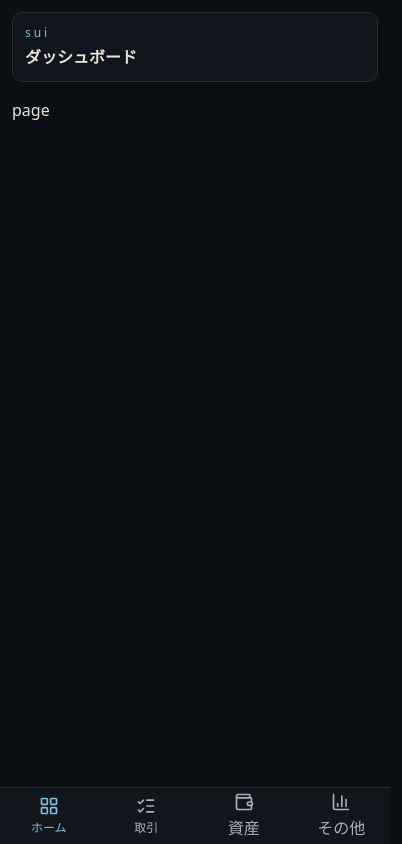
AppLayout navigation › omits audit history from desktop and mobile navigation
Click the button "その他" at (341, 816), box [292,788,390,843]
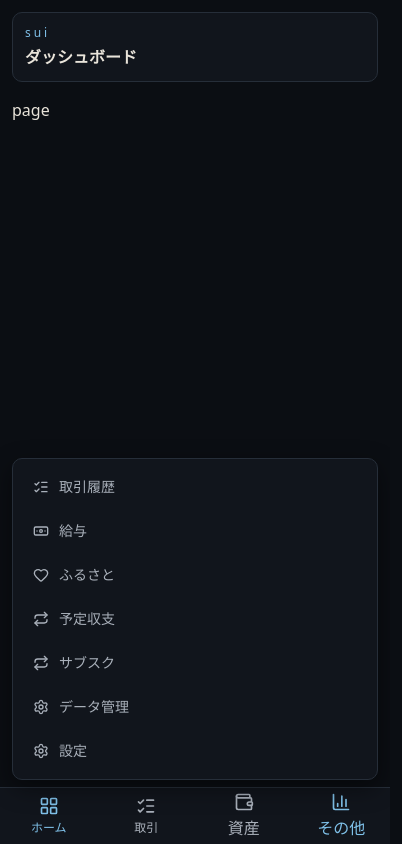
Now the link "データ管理" is shown, box [33,697,129,716]
